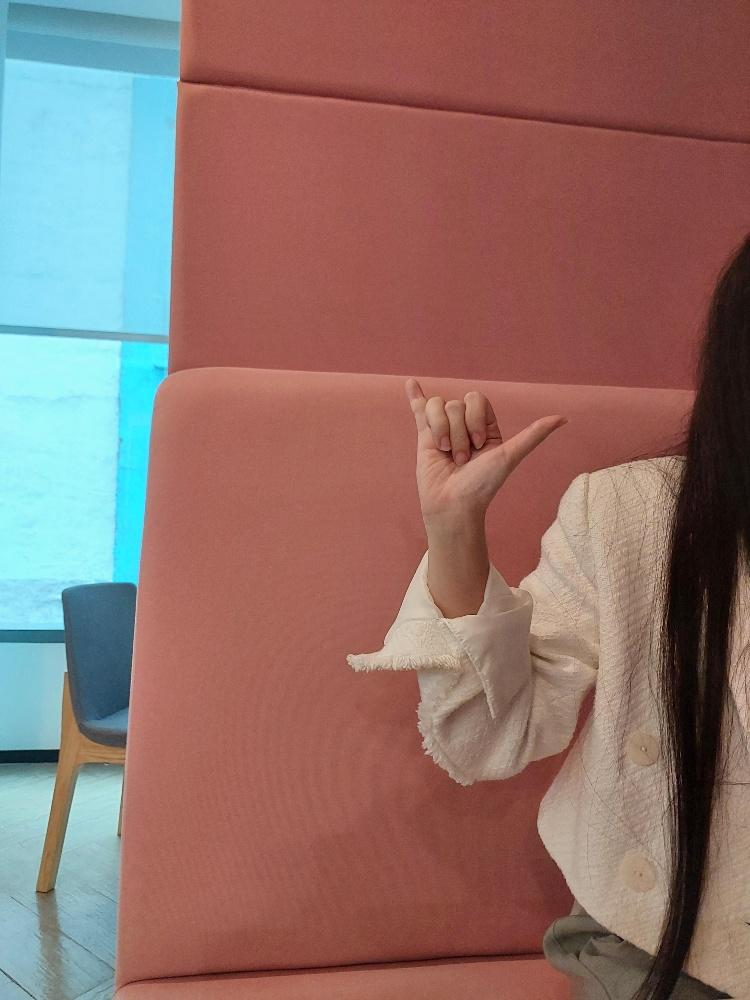y: (402, 377, 567, 509)
